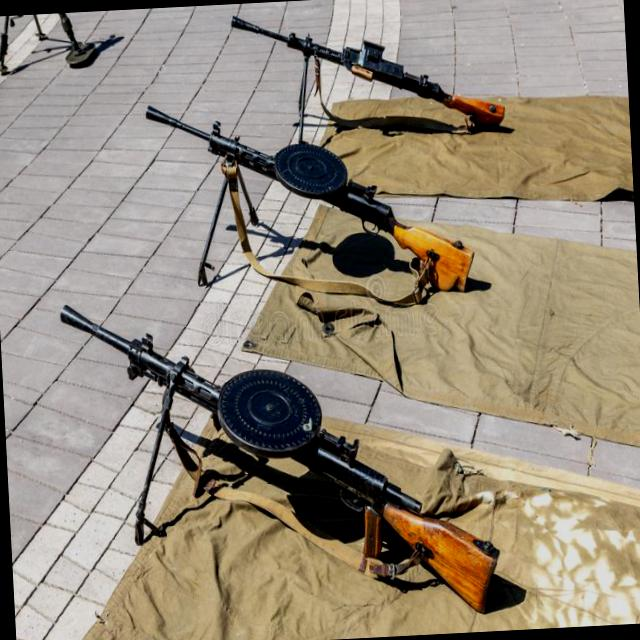long weapon: (46, 285, 522, 629), (144, 95, 492, 338), (198, 10, 522, 144)
